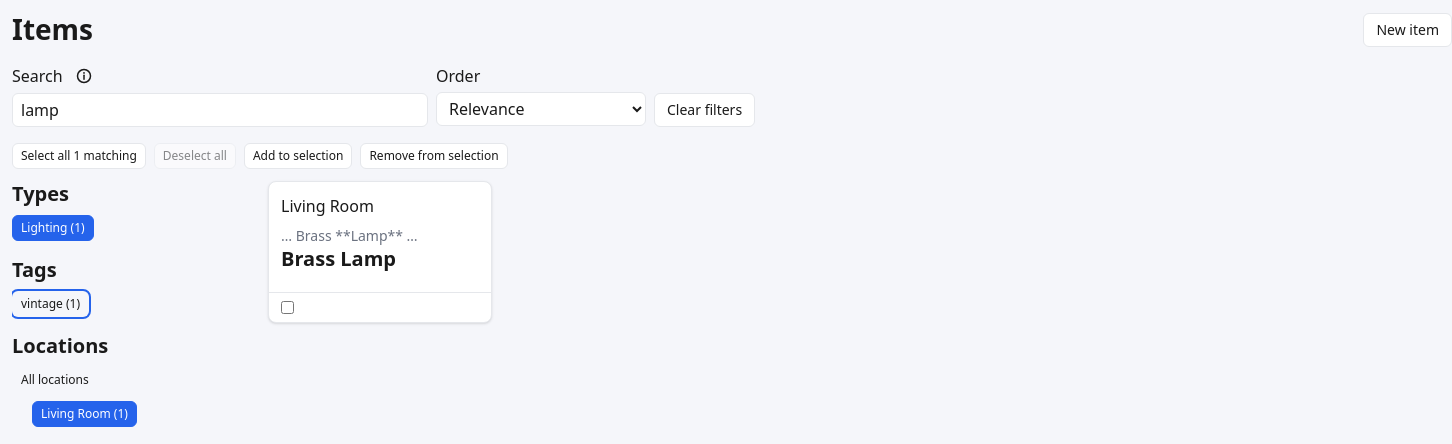
it: items search + facets › clear filters resets the URL params and query
Step 1. Click the button "Clear filters" → (705, 110), box [654, 93, 755, 127]
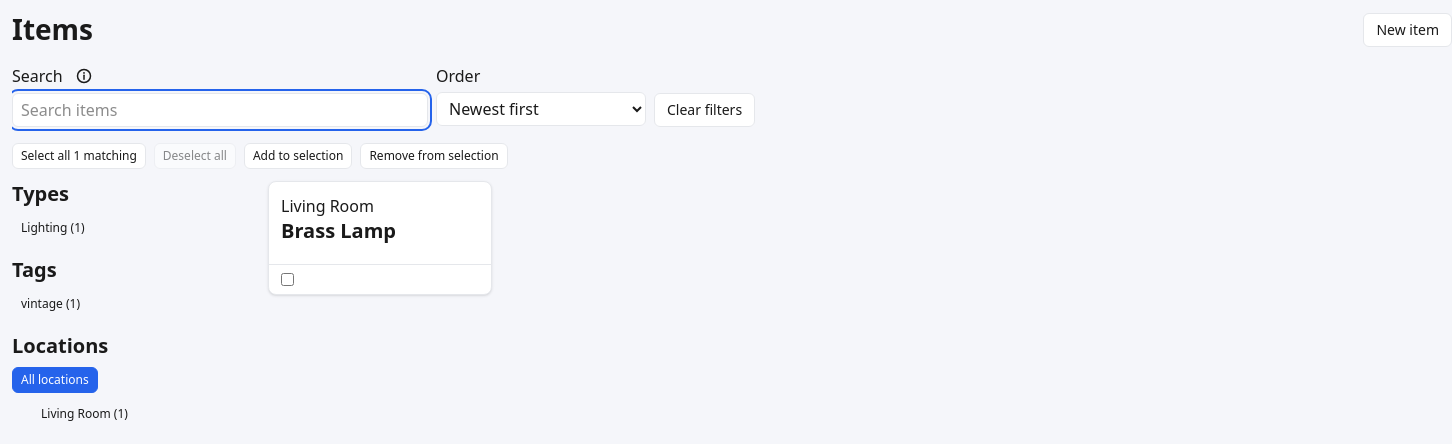
Now the search field labelled "Search" is empty, box [12, 93, 428, 127]
